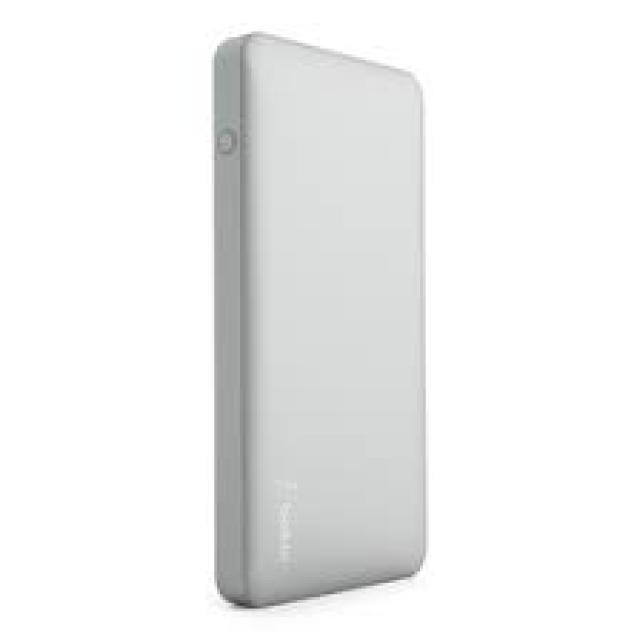portable-charger: (208, 25, 433, 612)
